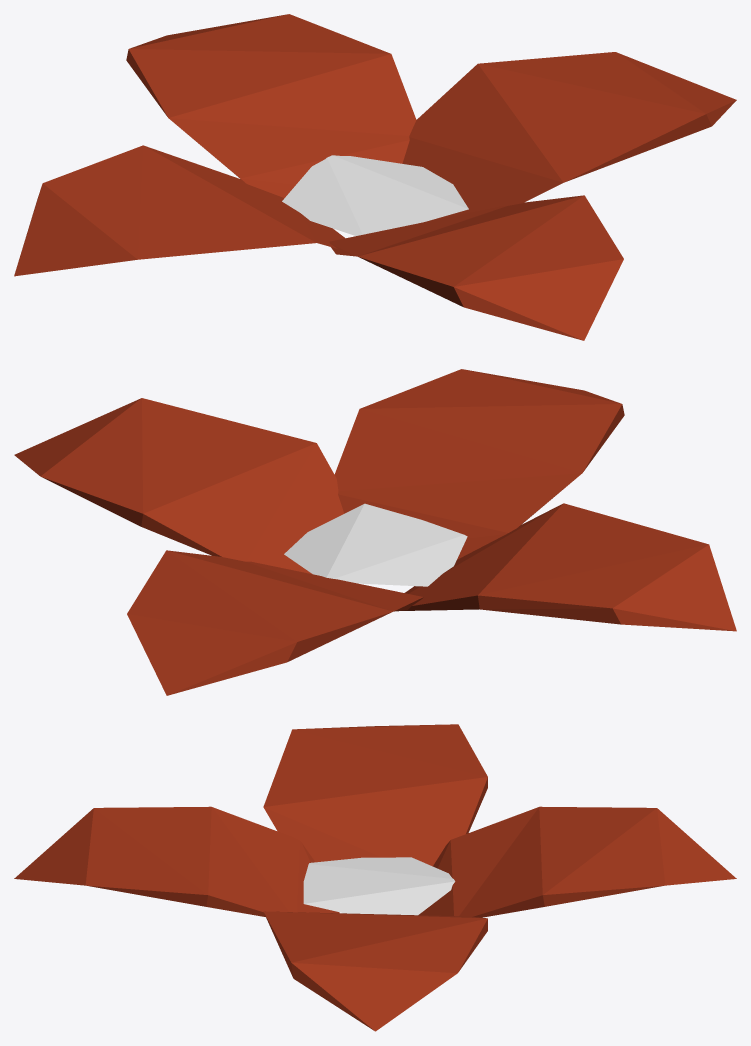
File: Summer_Flower_03.glb
3 views of the same model, one above another, from view 1: azimuth 30°, elevation 25°; view 2: azimuth 150°, elevation 25°; view 3: azimuth 270°, elevation 25° (orthographic). The views are drawn at different scales.
Parts seen in each view (by area): view 1: Summer_Flower_03_LOD0; view 2: Summer_Flower_03_LOD0; view 3: Summer_Flower_03_LOD0.
Part boxes in pixels (x1,y1,x2,y2): Summer_Flower_03_LOD0: [14, 14, 736, 340]; Summer_Flower_03_LOD0: [14, 369, 736, 695]; Summer_Flower_03_LOD0: [14, 724, 736, 1031].
Size of what is drawn, in the model's own units: 0.3044 by 0.0309 by 0.3044.
1 material, 1 textured.
